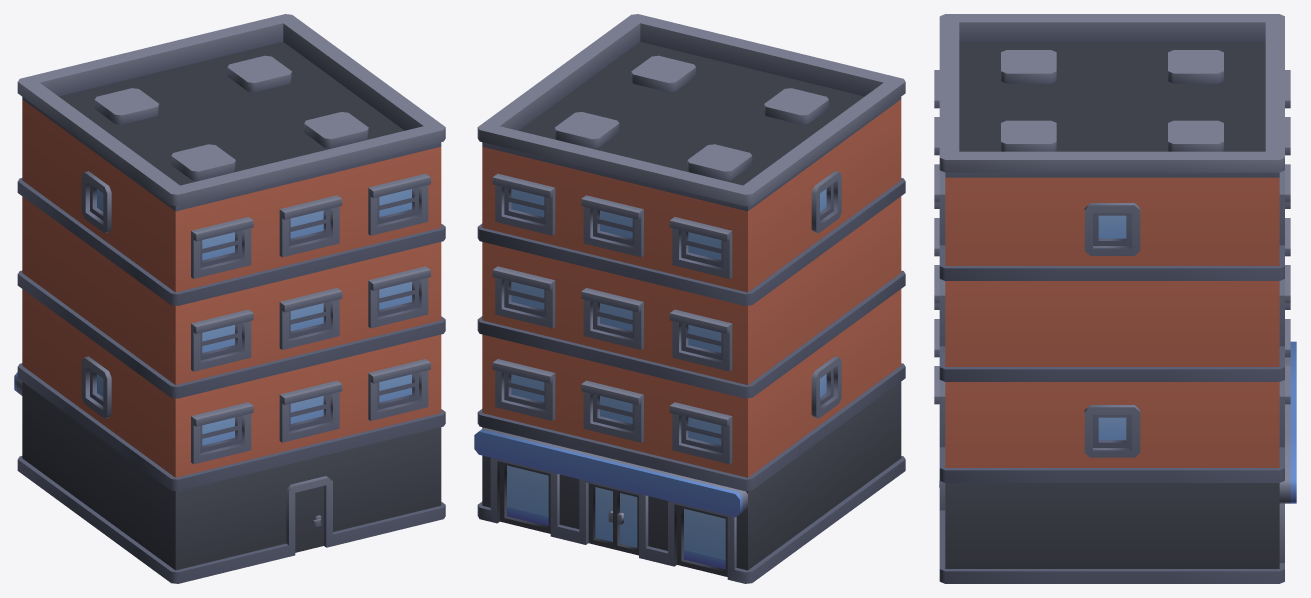
The model's file is building-i-b.glb.
3 views of the same model, side by side, from view 1: azimuth 30°, elevation 25°; view 2: azimuth 150°, elevation 25°; view 3: azimuth 270°, elevation 25° (orthographic). The views are drawn at different scales.
Visible parts, largest first — view 1: building-i; view 2: building-i; view 3: building-i.
Boxes of the visible parts, box(x1,y1,x2,y2) form: building-i: box(14, 14, 445, 583); building-i: box(474, 14, 905, 583); building-i: box(934, 14, 1296, 583).
Bounding box in the file's own units: 1.24 × 1.68 × 1.3.
Materials: 1 (1 with a texture image).
